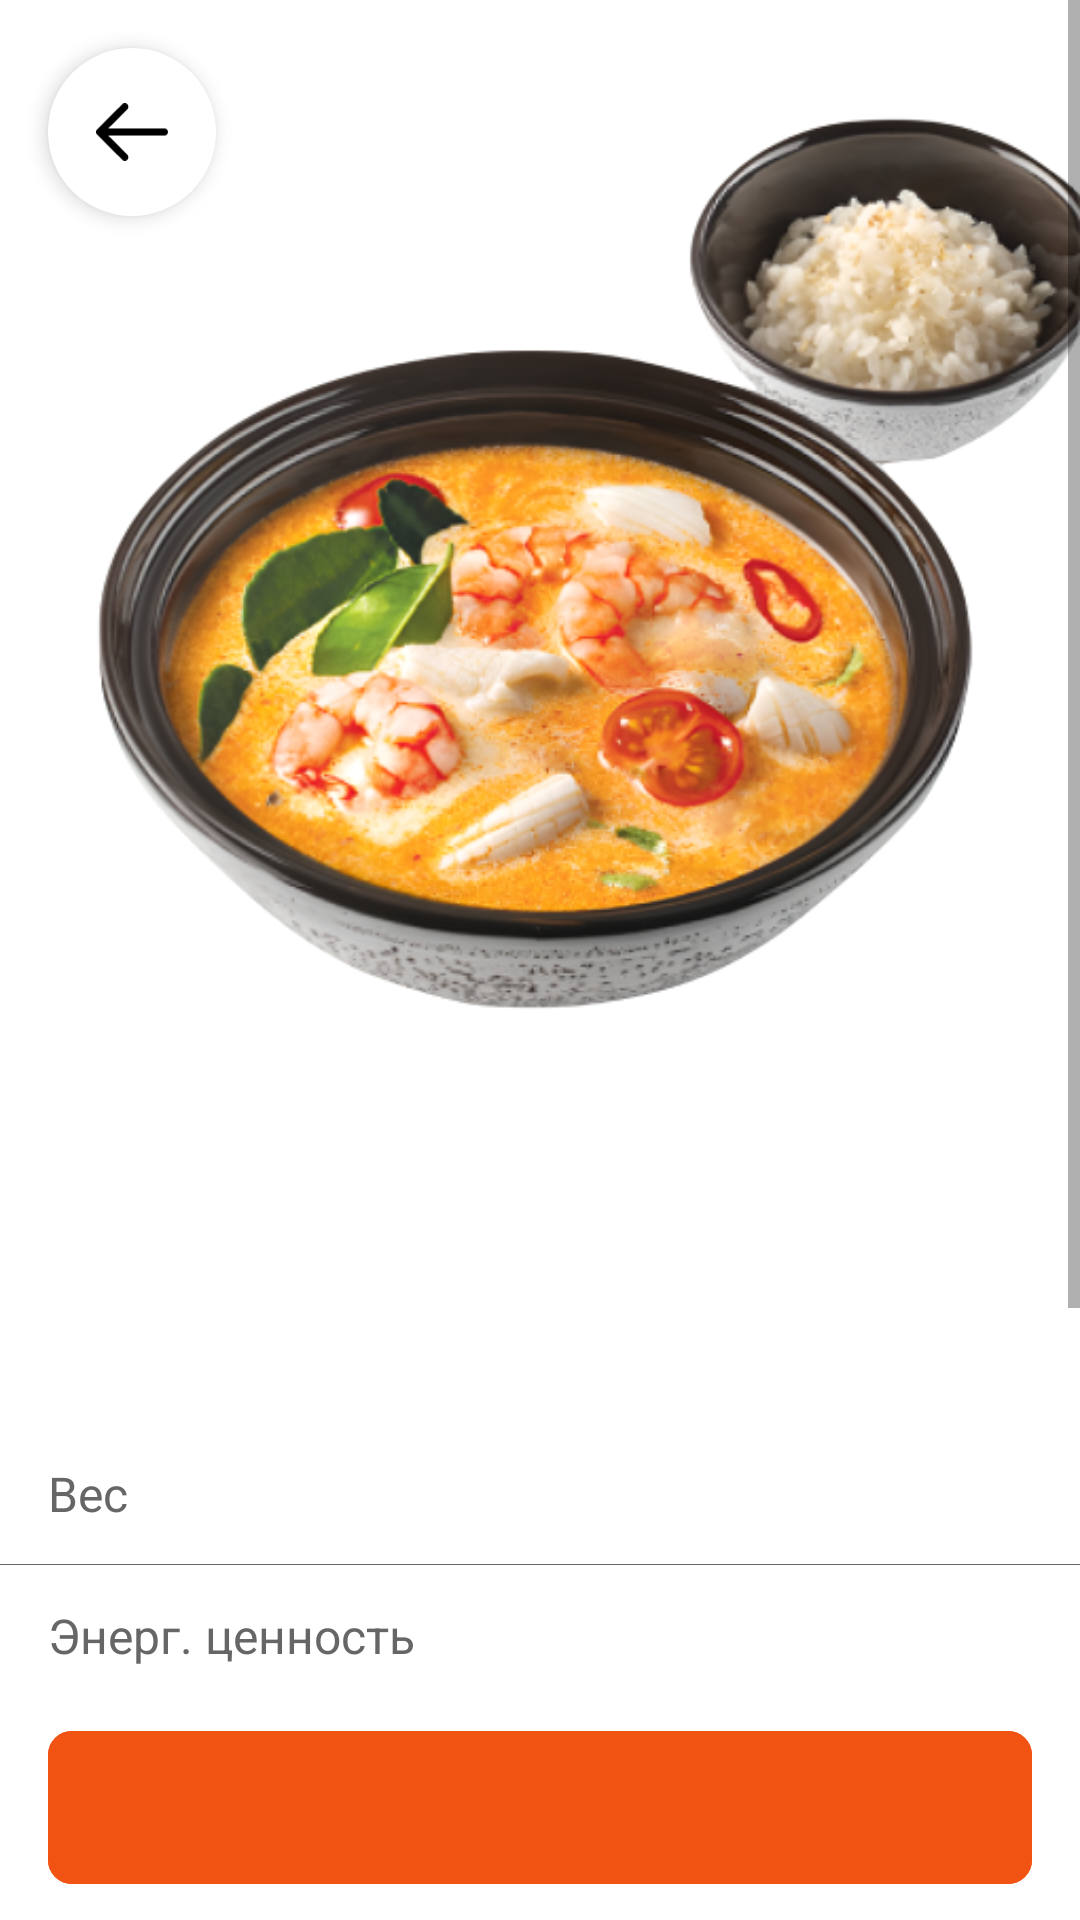

Locate icon controls on the screen. Image size 1080*1920, boxes as bbox=(x1, y1, x2, y2).
Кнопка назад: bbox=(48, 100, 168, 206)
